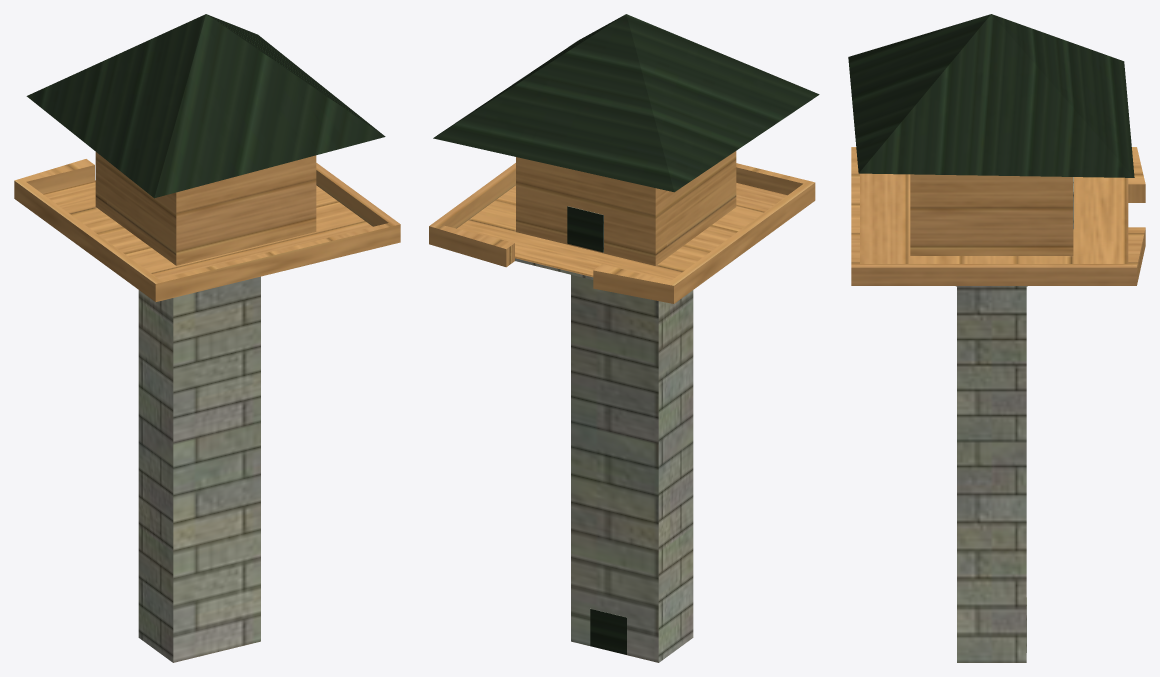
Rendered from tower.fbx.
3 views of the same model, side by side, from view 1: azimuth 30°, elevation 25°; view 2: azimuth 150°, elevation 25°; view 3: azimuth 270°, elevation 25° (orthographic).
Parts seen in each view (by area): view 1: ramp_tower:pCube18; view 2: ramp_tower:pCube18; view 3: ramp_tower:pCube18.
Part boxes in pixels (bbox=[...]): ramp_tower:pCube18: bbox=[14, 14, 400, 662]; ramp_tower:pCube18: bbox=[429, 14, 819, 662]; ramp_tower:pCube18: bbox=[848, 14, 1145, 662].
Size of the model in its own units: 48.65 by 117 by 50.05.
